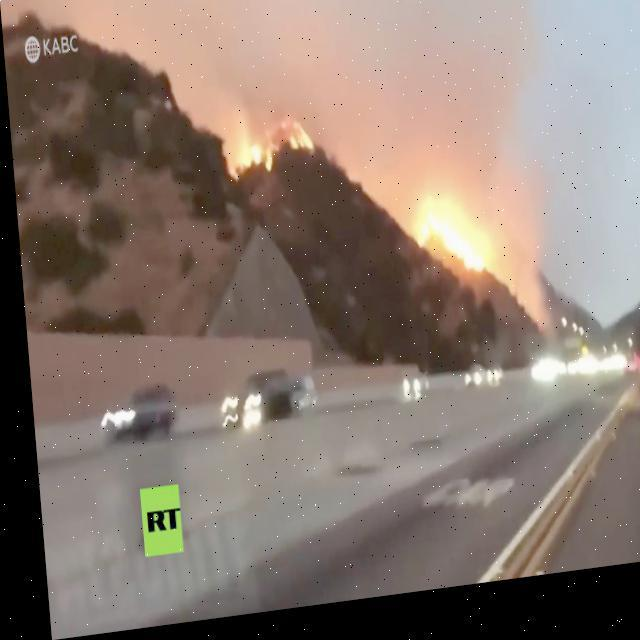Fire: (408, 210, 482, 289), (234, 143, 271, 181), (285, 125, 311, 162)
